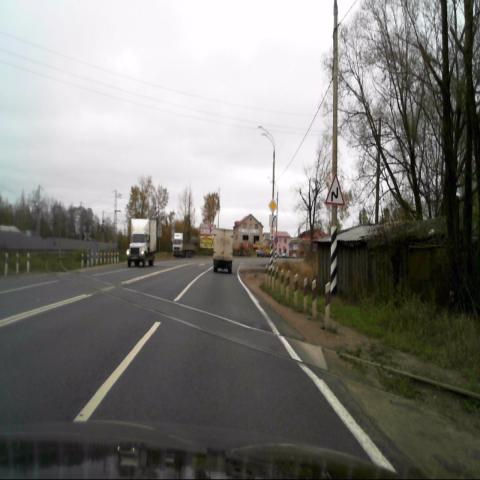1_12: (324, 172, 344, 206)
